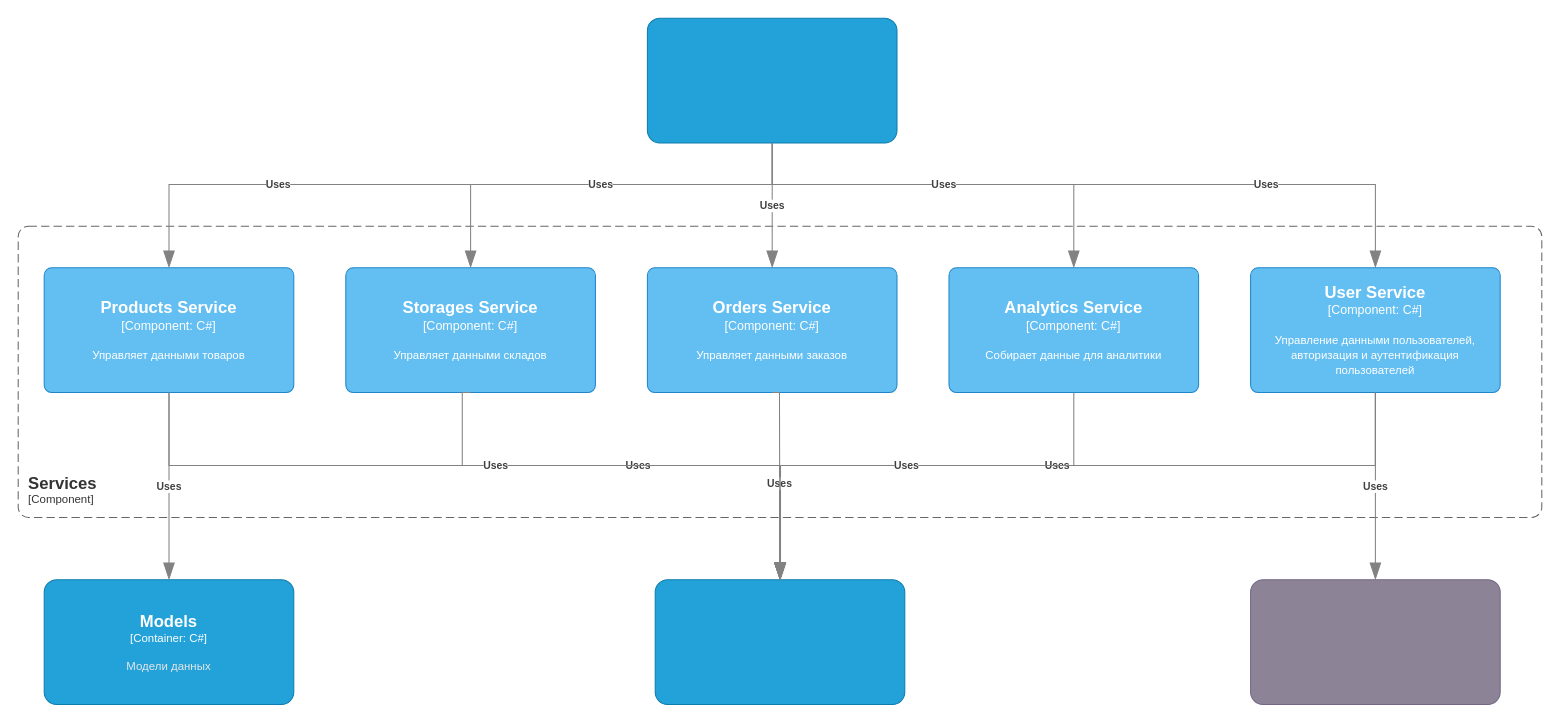
Image size: 1560x723. Some labels were removed from this diagram. Each missing label, with the centre of its shape:
API Controllers [Container: .Net Core MVC] Контроллеры страниц: (x=771, y=80)
ASP.NET Identity [Software System]: (x=1375, y=642)
Data Storage [Container: C#] Хранилище данными: (x=779, y=642)
